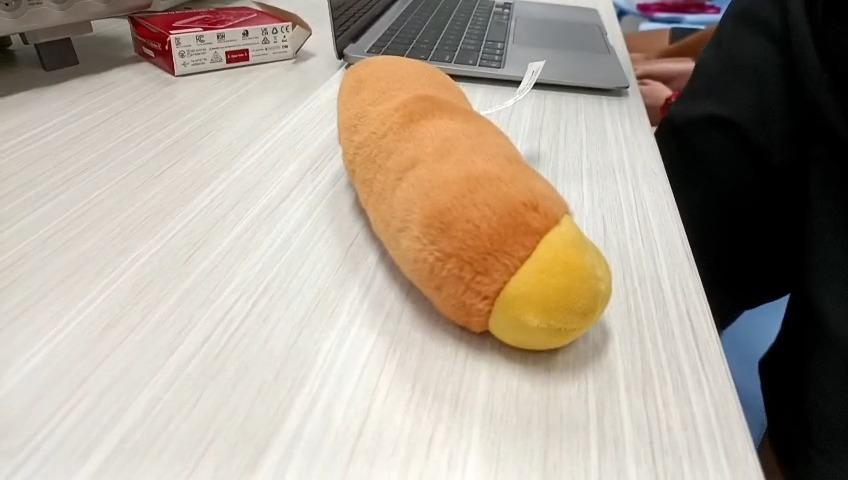hotdog: (337, 55, 613, 350)
